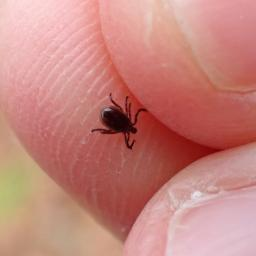Ixodes scapularis: (92, 92, 150, 150)
